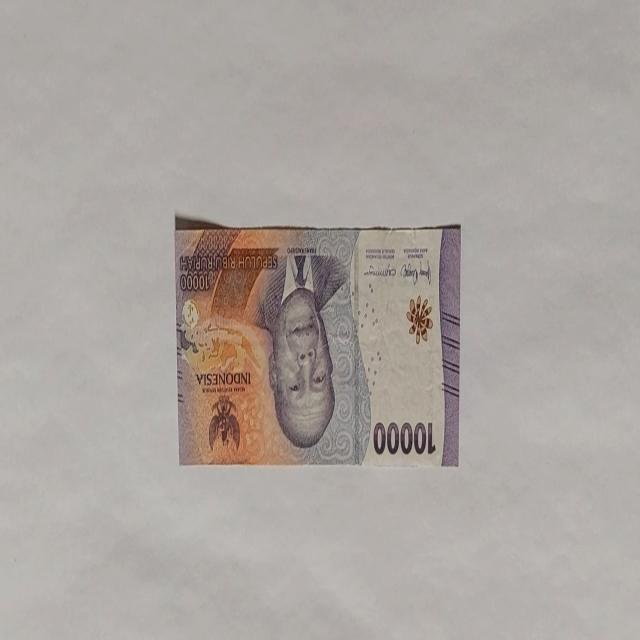sepuluh ribu rupiah: (174, 216, 460, 468)
